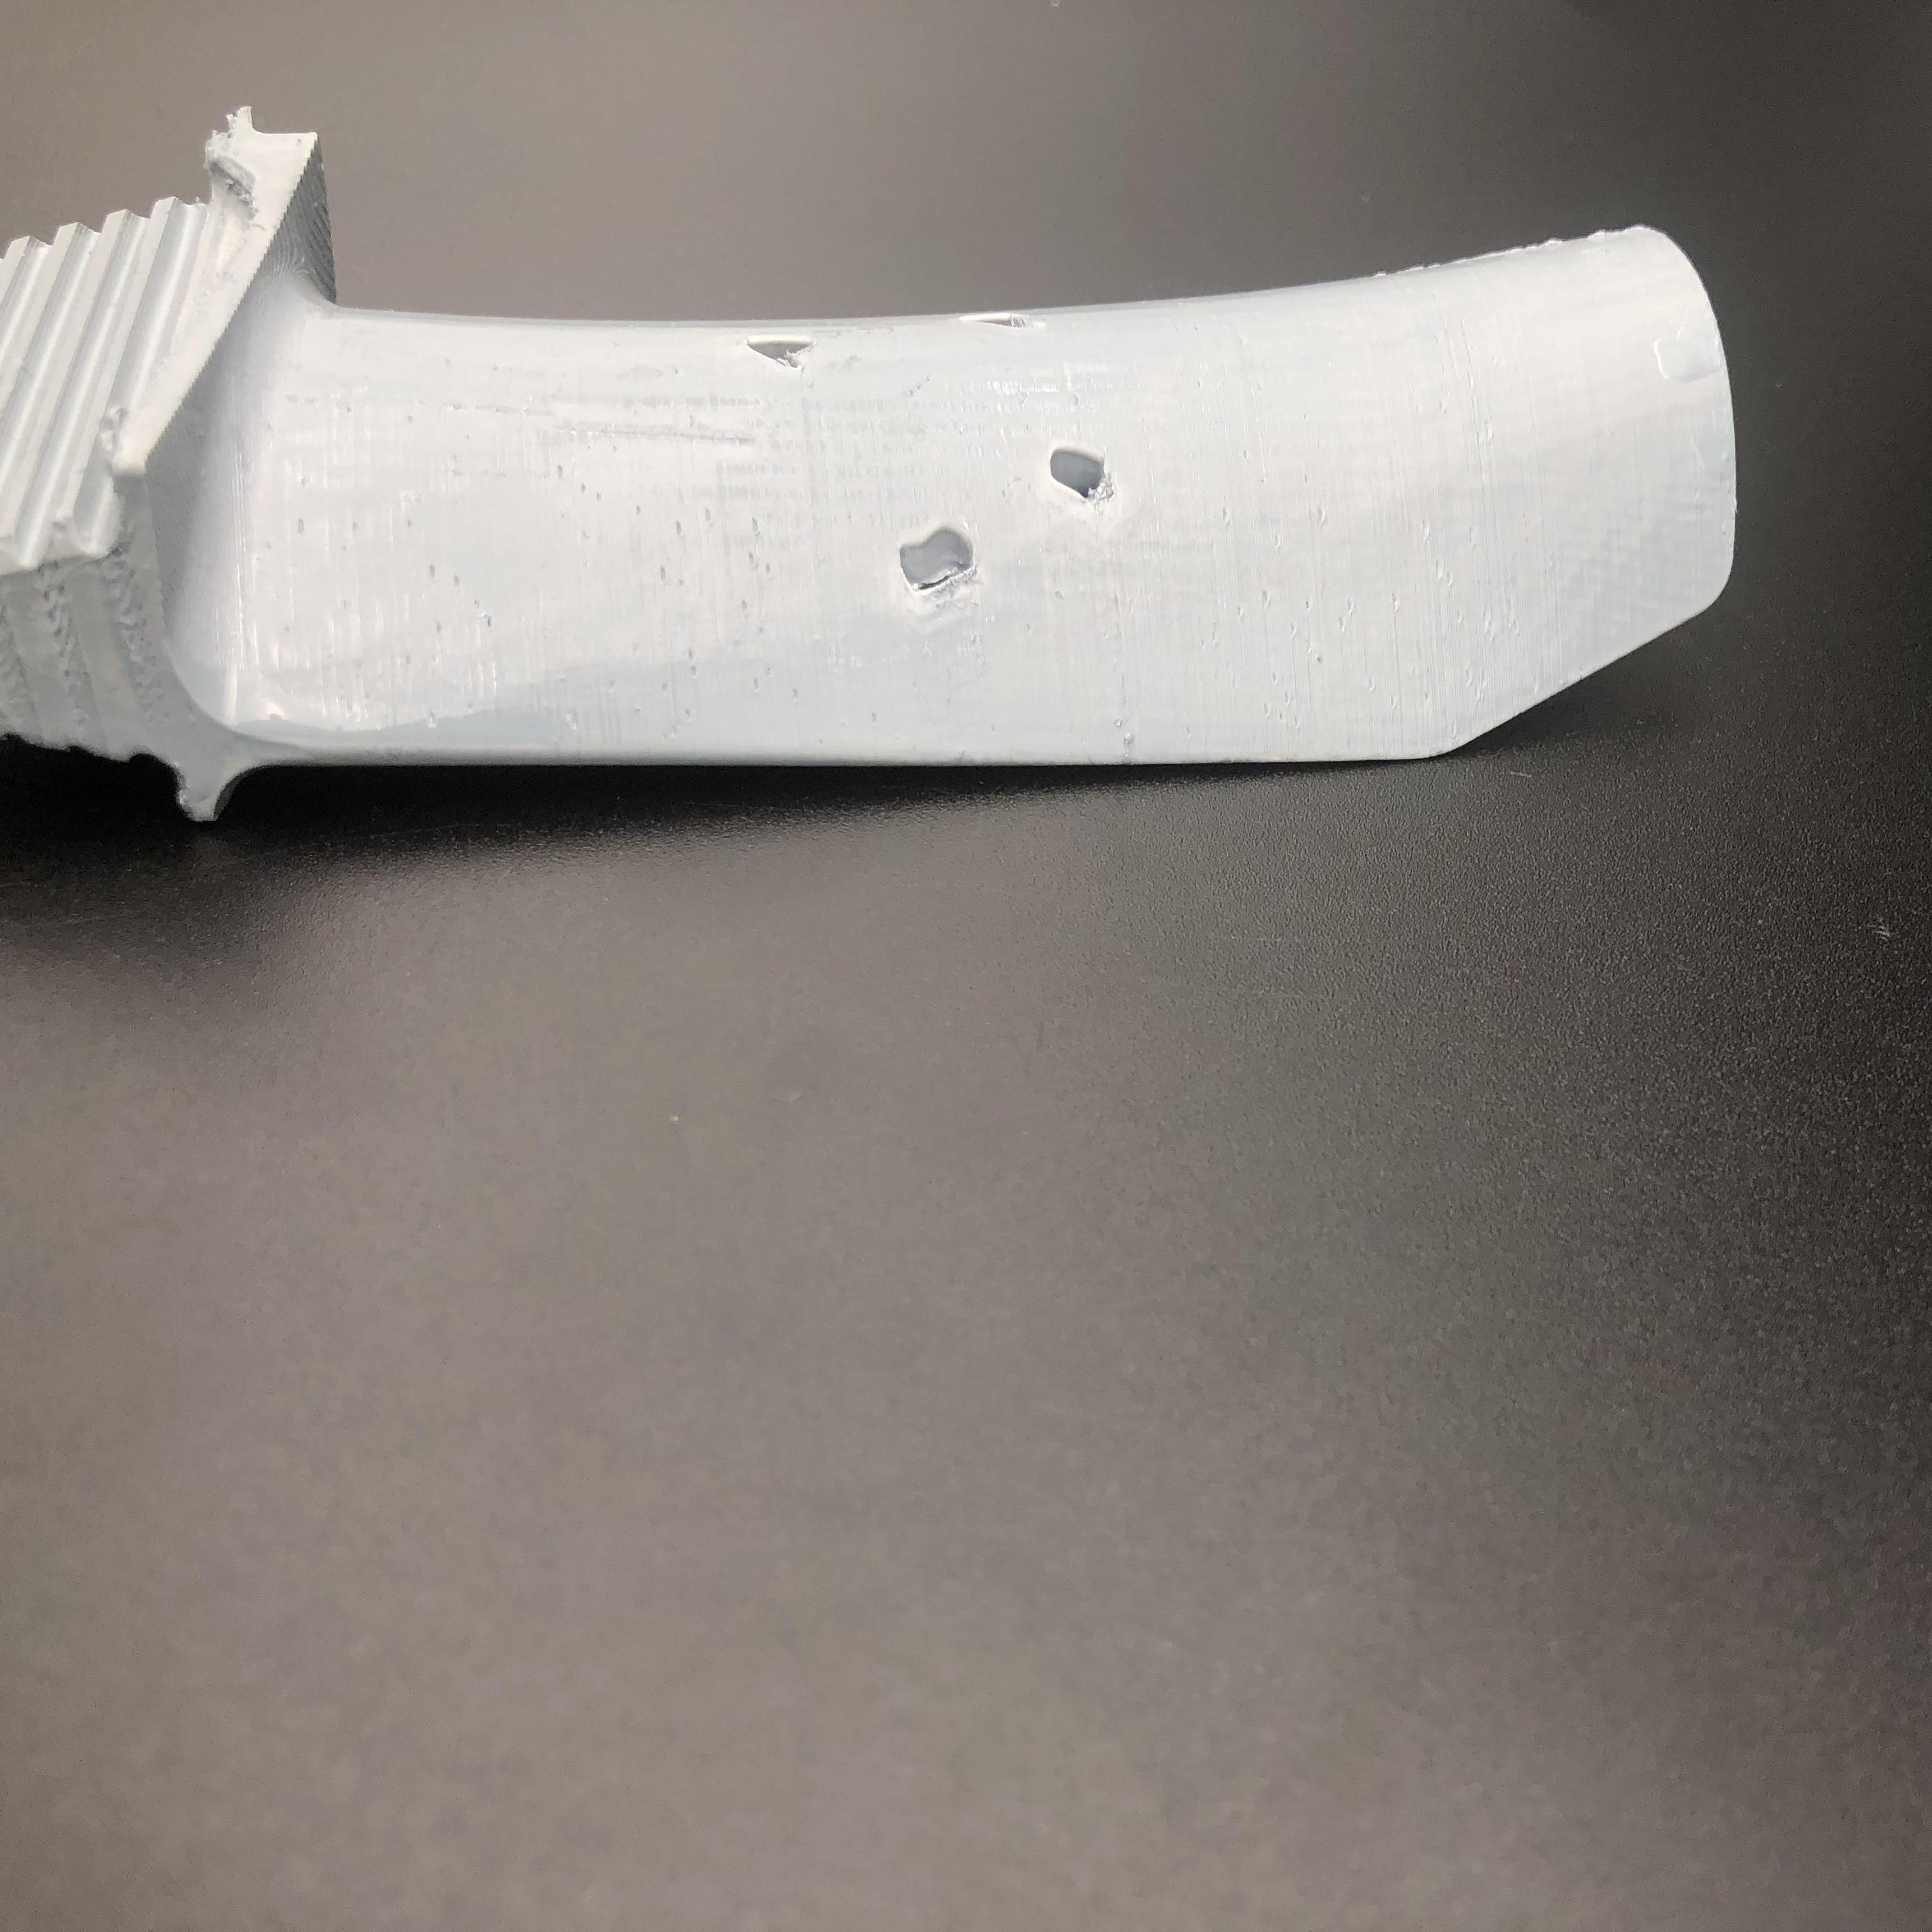breakdown: (901, 437, 1141, 605), (750, 322, 1054, 373)
